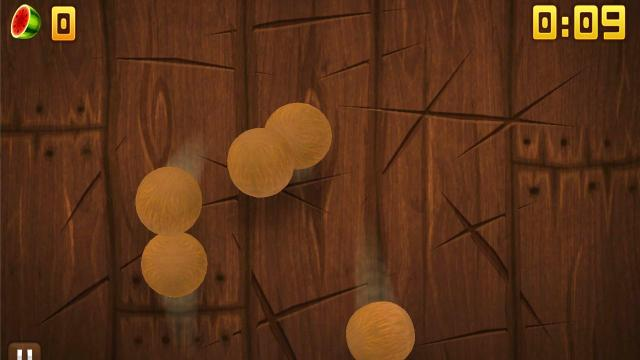fruit: (135, 166, 203, 236), (226, 128, 294, 196), (140, 231, 208, 297), (266, 102, 332, 168), (346, 300, 416, 360)
ignore: (9, 4, 43, 40)
